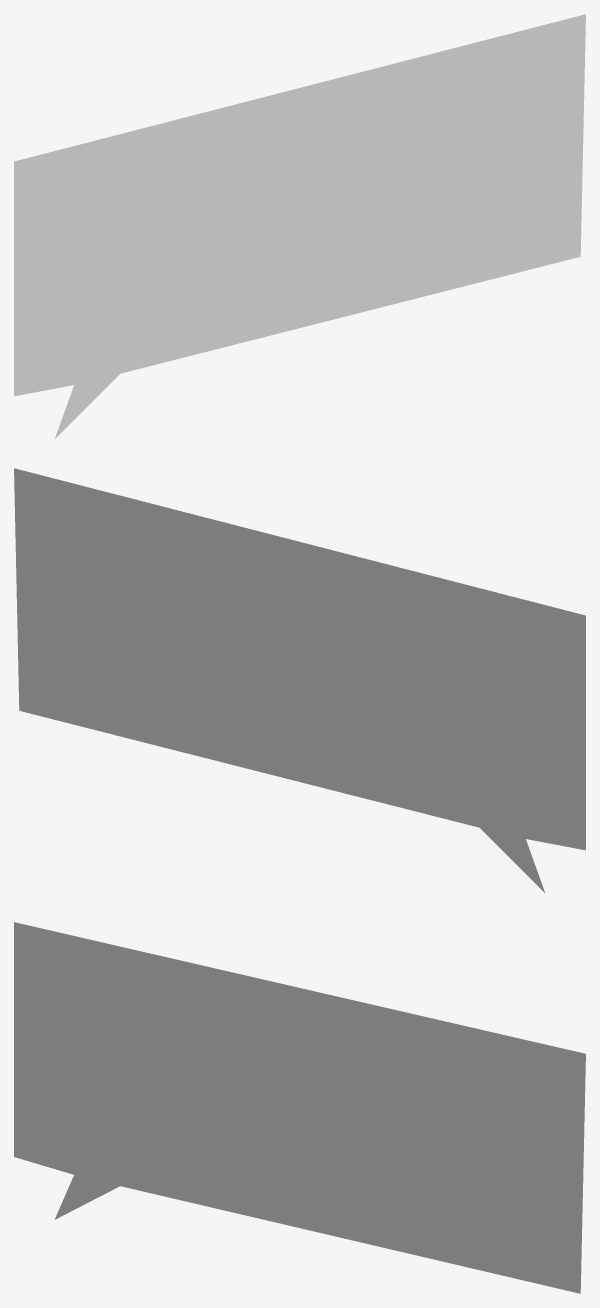
File: speech_buble.FBX
3 renders of one model, top to bottom at view 1: azimuth 30°, elevation 25°; view 2: azimuth 150°, elevation 25°; view 3: azimuth 330°, elevation 25°, orthographic.
Parts seen in each view (by area): view 1: speechbuble; view 2: speechbuble; view 3: speechbuble.
Part boxes in pixels (x1,y1,x2,y2): speechbuble: (14,14,585,438); speechbuble: (14,468,585,892); speechbuble: (14,922,585,1293).
Size of the model in its own units: 227 by 112 by 2.12.
Materials: 1 (1 with a texture image).
